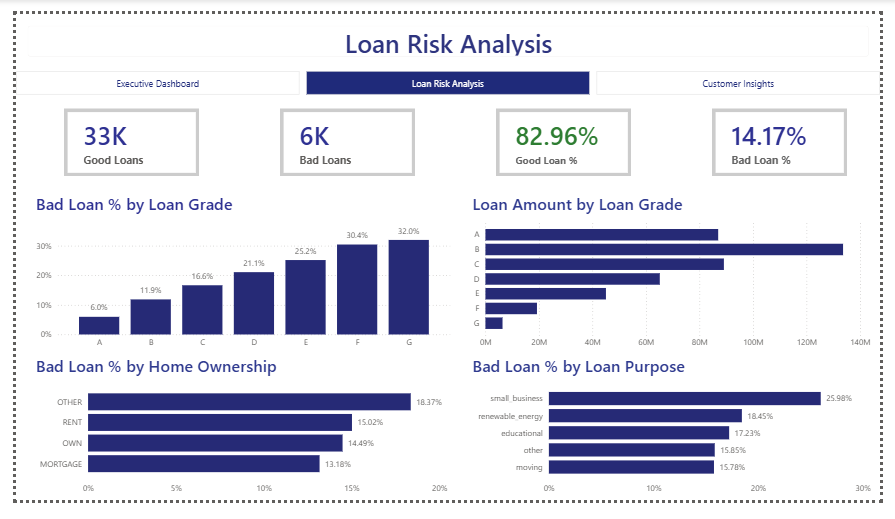

The page's visual inventory and layout, read from the dashboard file:
{"tool":"powerbi","page":{"name":"Loan Risk Analysis","canvas":[1280,720],"ordinal":1},"visuals":[{"type":"pageNavigator","box":[0,85,1280,35],"z":0},{"type":"cardVisual","fields":{"Data":["Measures (2).Bad Loans"]},"box":[392,140,200,100],"z":1000},{"type":"cardVisual","fields":{"Data":["Measures (2).Bad Loan %"]},"box":[1032,140,200,100],"z":2000},{"type":"cardVisual","fields":{"Data":["loan.Good Loan %"]},"box":[712,140,200,100],"z":3000},{"type":"cardVisual","fields":{"Data":["Measures (2).Good Loans"]},"box":[72,140,200,100],"z":4000},{"type":"clusteredColumnChart","title":"Bad Loan % by Loan Grade","fields":{"Category":["loan.grade"],"Y":["Measures (2).Bad Loan %"]},"box":[24,264,624,240],"z":5000},{"type":"clusteredBarChart","title":"Loan Amount by Loan Grade","fields":{"Category":["loan.grade"],"Y":["Measures (2).Total Loan Amount"]},"box":[672,264,600,240],"z":6000},{"type":"clusteredBarChart","title":"Bad Loan % by Home Ownership","fields":{"Category":["loan.home_ownership"],"Y":["Measures (2).Bad Loan %"]},"box":[24,504,624,216],"z":7000},{"type":"clusteredBarChart","title":"Bad Loan % by Loan Purpose","fields":{"Category":["loan.purpose"],"Y":["Measures (2).Bad Loan %"]},"box":[672,504,600,216],"z":8000},{"type":"cardVisual","fields":{"Data":["Measures (2).Dynamic Title - Risk"]},"box":[0,0,1280,80],"z":9000}]}

Visuals, with their boxes in screenshot pixels (x1, y1, x2, y2), scaled from the page's 1280x720 canvas onto the 895x519 screenshot:
pageNavigator: (0, 61, 894, 86)
cardVisual - Measures (2).Bad Loans: (274, 101, 414, 173)
cardVisual - Measures (2).Bad Loan %: (722, 101, 861, 173)
cardVisual - loan.Good Loan %: (498, 101, 638, 173)
cardVisual - Measures (2).Good Loans: (50, 101, 190, 173)
"Bad Loan % by Loan Grade" clusteredColumnChart: (17, 190, 453, 363)
"Loan Amount by Loan Grade" clusteredBarChart: (470, 190, 889, 363)
"Bad Loan % by Home Ownership" clusteredBarChart: (17, 363, 453, 518)
"Bad Loan % by Loan Purpose" clusteredBarChart: (470, 363, 889, 518)
cardVisual - Measures (2).Dynamic Title - Risk: (0, 0, 894, 58)
